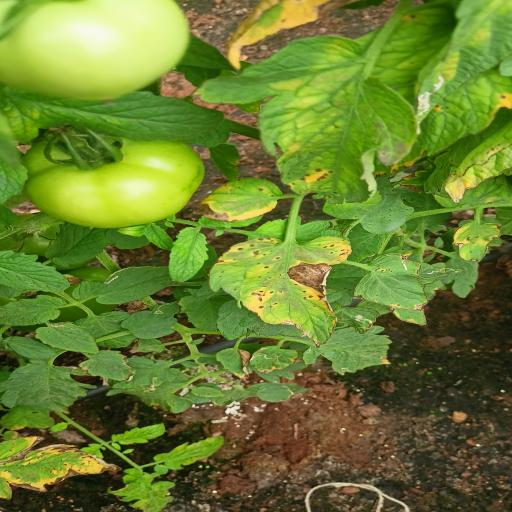Early Blight: (190, 32, 418, 208), (204, 235, 354, 348), (0, 433, 129, 503), (182, 174, 282, 224), (353, 253, 431, 312), (450, 219, 506, 263), (212, 348, 252, 383)
Leaf_Miner: (410, 69, 448, 119)
